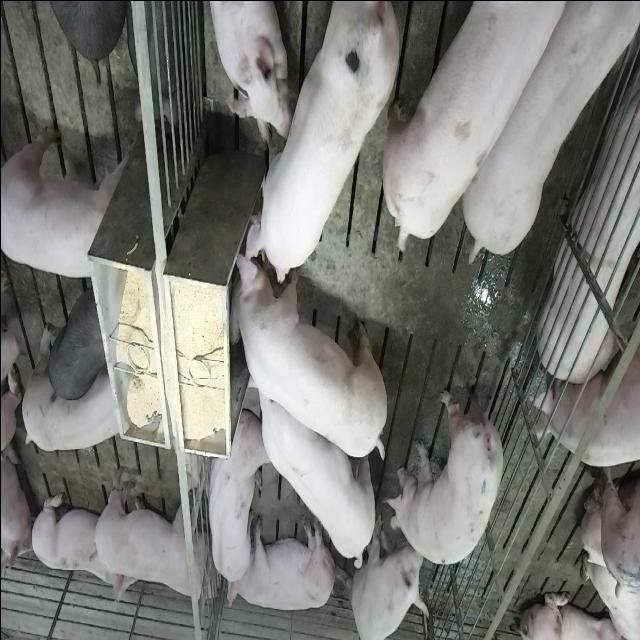Feeding: (230, 6, 398, 287), (221, 230, 384, 465)
Lateral_lying: (540, 21, 640, 387), (226, 512, 336, 612)
Sitting: (346, 522, 426, 640)
Standing: (384, 0, 587, 256), (464, 0, 640, 259), (246, 352, 379, 568), (389, 362, 508, 564), (2, 124, 133, 278), (88, 459, 216, 605), (534, 332, 640, 466), (22, 359, 130, 454), (44, 286, 108, 404)
Sternal_lying: (29, 486, 131, 608), (204, 0, 288, 143), (202, 408, 265, 594)
